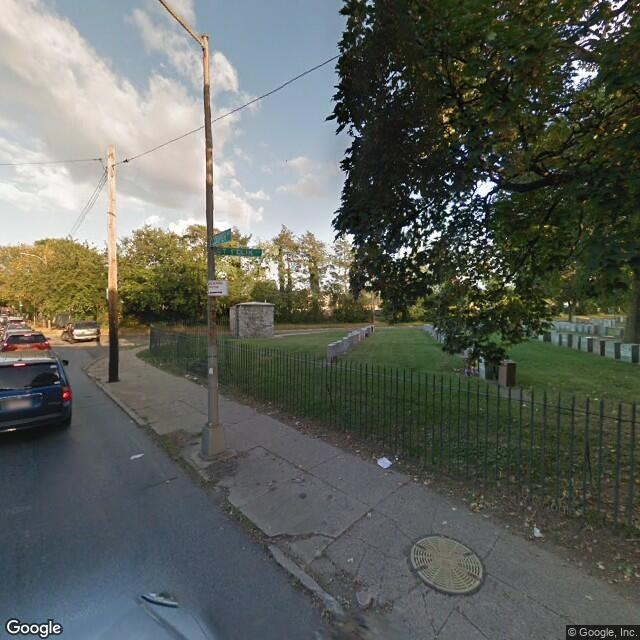litter: (119, 440, 171, 472), (520, 511, 558, 552), (362, 448, 406, 473), (181, 367, 200, 394)
